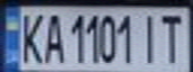0: (100, 11, 118, 64)
1: (115, 10, 139, 64), (63, 11, 84, 64), (84, 11, 100, 64)
A: (39, 10, 66, 64)
I: (136, 10, 163, 64)
K: (15, 9, 45, 65)
T: (154, 10, 190, 65)
